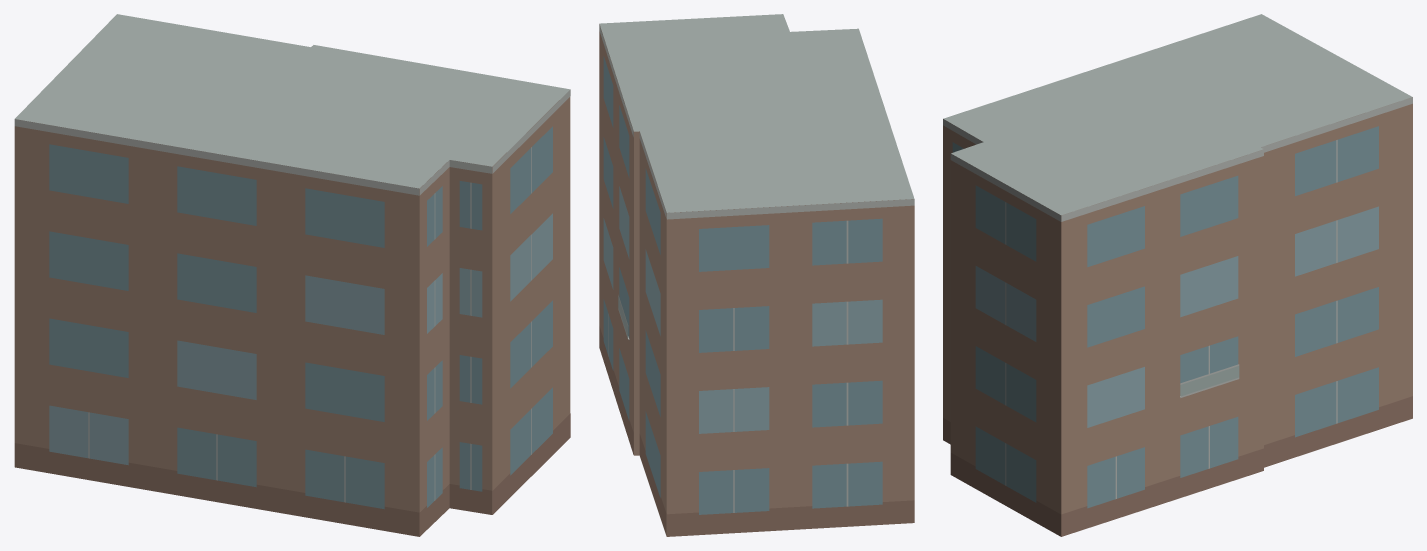
Rendered from survey-upis-32819333.glb.
3 views of the same model, side by side, from view 1: azimuth 30°, elevation 25°; view 2: azimuth 150°, elevation 25°; view 3: azimuth 270°, elevation 25° (orthographic). The views are drawn at different scales.
Visible parts, largest first — view 1: survey-upis-32819333.tmp; view 2: survey-upis-32819333.tmp; view 3: survey-upis-32819333.tmp.
Part boxes in pixels (<box>): survey-upis-32819333.tmp: <box>14,14,570,536</box>; survey-upis-32819333.tmp: <box>599,14,914,536</box>; survey-upis-32819333.tmp: <box>943,14,1412,536</box>.
Bounding box in the file's own units: 15.95 × 11.86 × 15.72.
